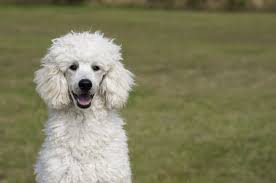Bulldog: (29, 26, 142, 181)
